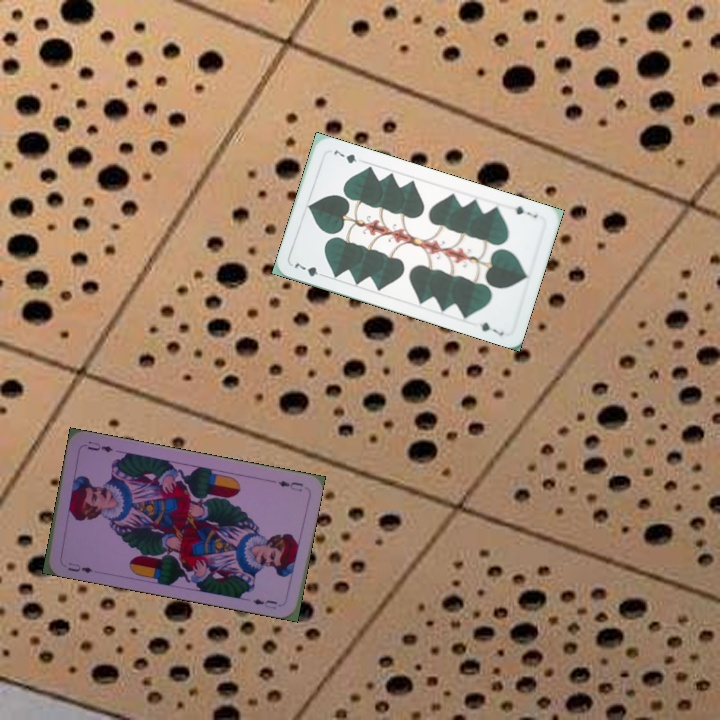EU: (274, 476, 306, 494), (64, 558, 95, 576)
G7: (290, 259, 329, 279), (510, 202, 540, 220)
